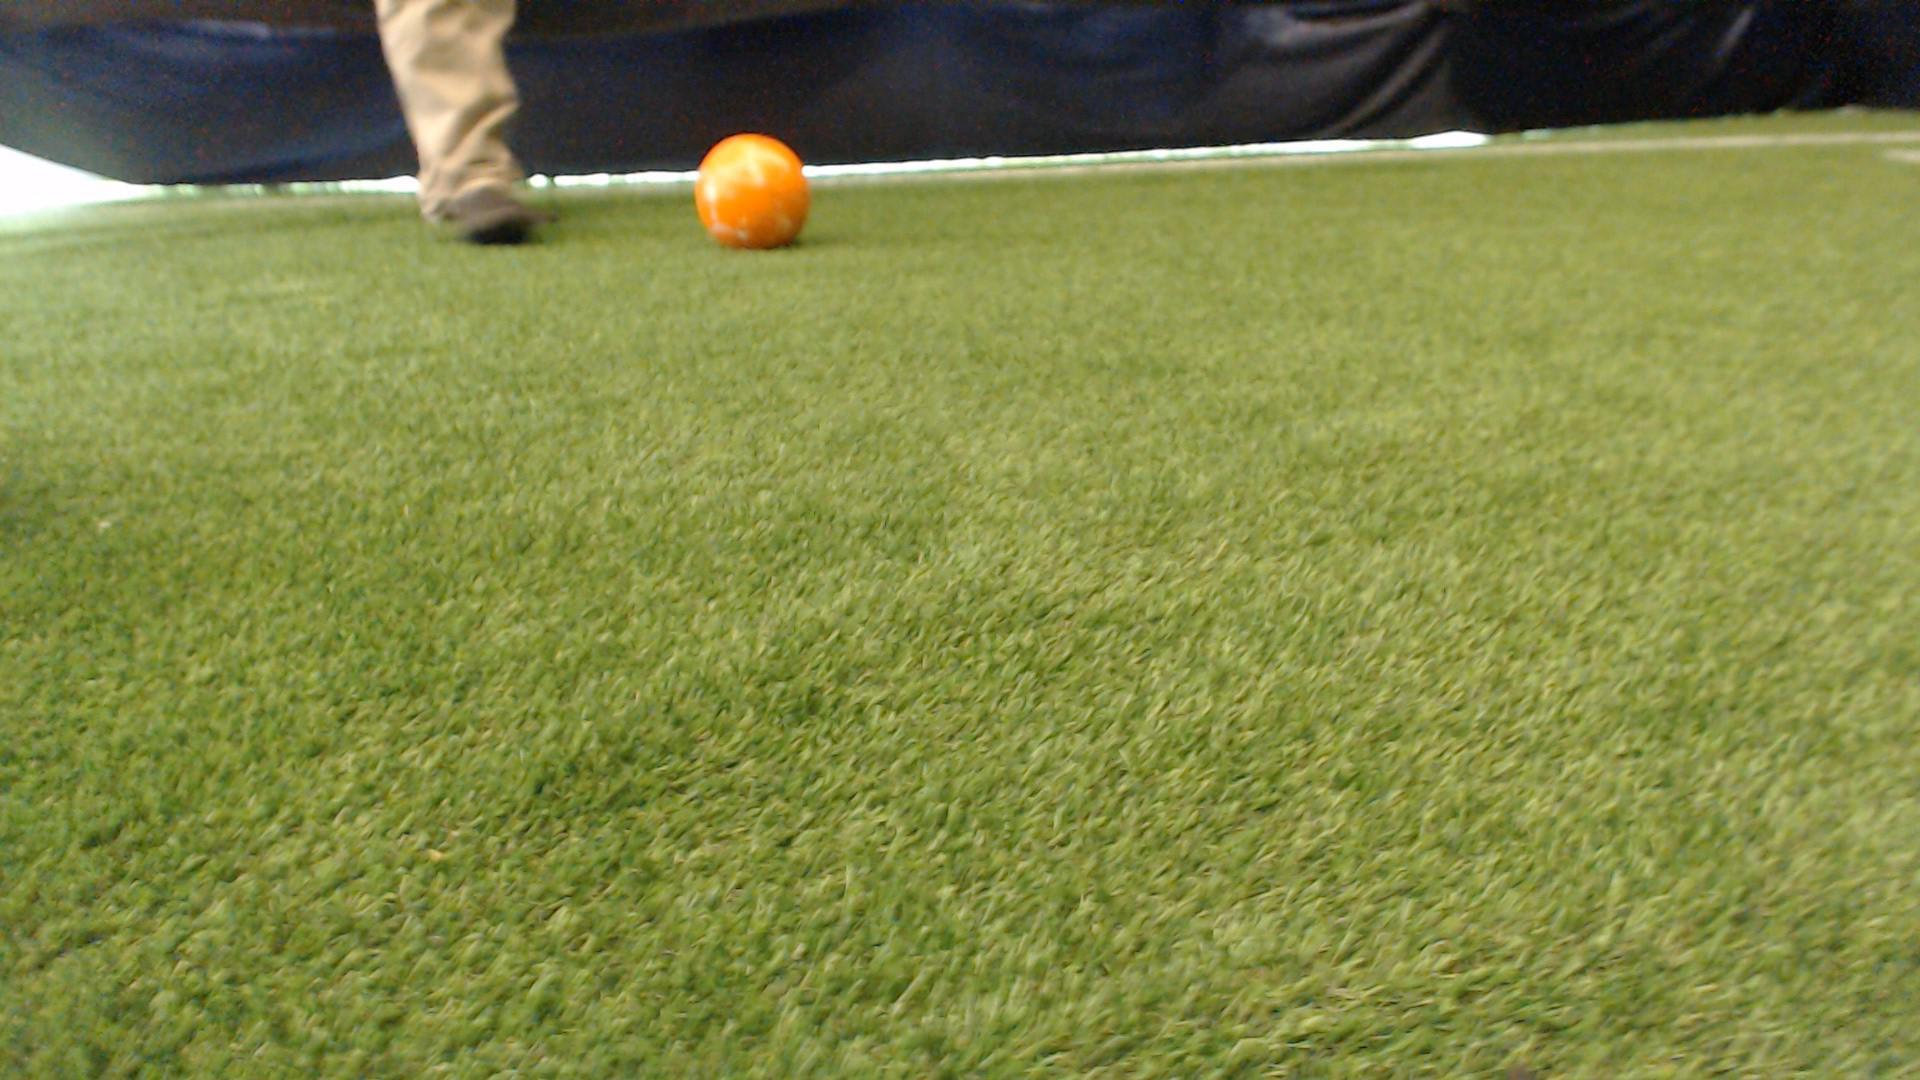bola: (680, 132, 833, 272)
